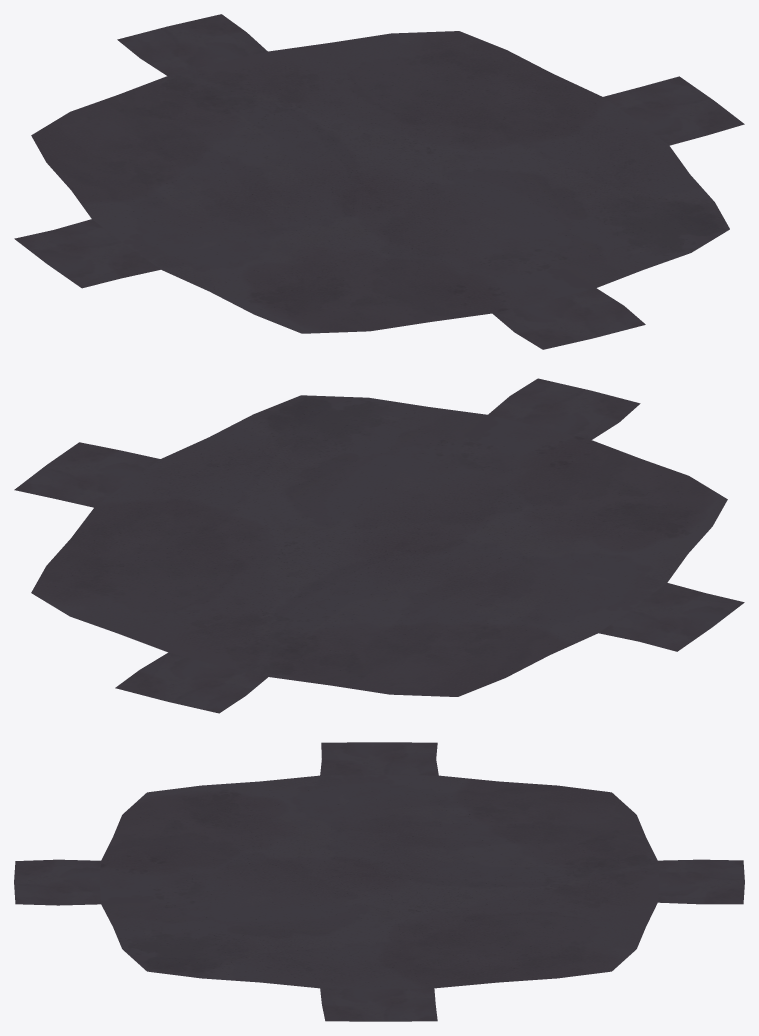
Rendered from new_small_floor.fbx.
3 renders of one model, top to bottom at view 1: azimuth 30°, elevation 25°; view 2: azimuth 150°, elevation 25°; view 3: azimuth 270°, elevation 25°, orthographic. The views are drawn at different scales.
Visible parts, largest first — view 1: Small Ground, Small Ground.001, Small Ground.002, Small Ground.003, Small Ground.004; view 2: Small Ground, Small Ground.001, Small Ground.002, Small Ground.003, Small Ground.004; view 3: Small Ground, Small Ground.002, Small Ground.001, Small Ground.004, Small Ground.003.
Boxes of the visible parts, x1=… form: Small Ground: x1=31, y1=31, x2=729, y2=333; Small Ground.001: x1=492, y1=288, x2=645, y2=349; Small Ground.002: x1=14, y1=219, x2=160, y2=288; Small Ground.003: x1=117, y1=14, x2=267, y2=75; Small Ground.004: x1=603, y1=76, x2=744, y2=145; Small Ground: x1=31, y1=395, x2=727, y2=696; Small Ground.001: x1=488, y1=378, x2=640, y2=439; Small Ground.002: x1=599, y1=583, x2=744, y2=651; Small Ground.003: x1=115, y1=652, x2=267, y2=713; Small Ground.004: x1=14, y1=442, x2=160, y2=507; Small Ground: x1=99, y1=775, x2=659, y2=988; Small Ground.002: x1=320, y1=742, x2=438, y2=775; Small Ground.001: x1=14, y1=859, x2=100, y2=905; Small Ground.004: x1=320, y1=988, x2=437, y2=1021; Small Ground.003: x1=658, y1=859, x2=744, y2=904.
Bounding box in the file's own units: 2089 × 0.000376 × 2308.
